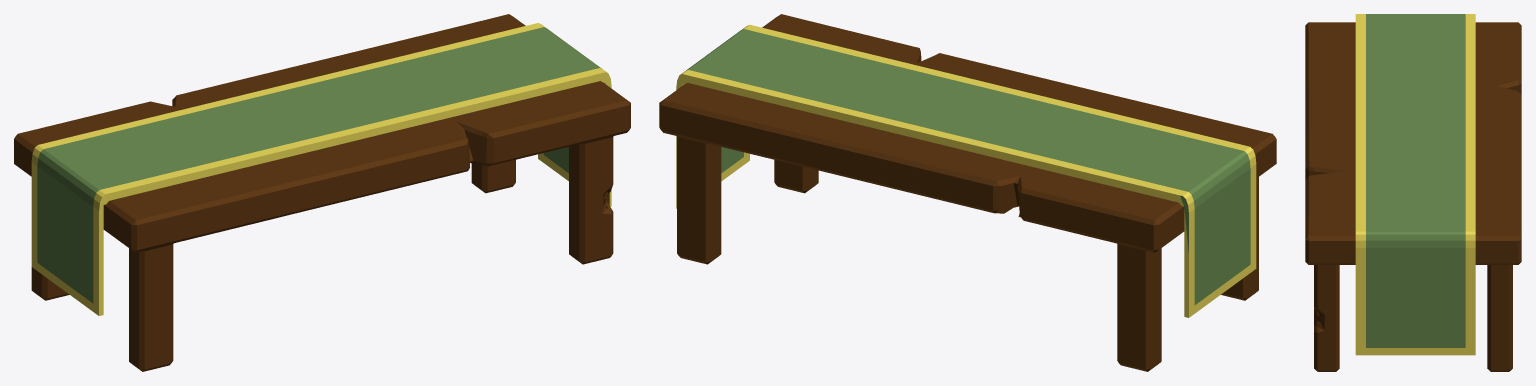
The model's file is Table2.fbx.
The picture shows the model from 3 angles, left to right: view 1: azimuth 30°, elevation 25°; view 2: azimuth 150°, elevation 25°; view 3: azimuth 270°, elevation 25°; orthographic projection. The views are drawn at different scales.
Parts seen in each view (by area): view 1: Cube.012; view 2: Cube.012; view 3: Cube.012.
Boxes of the visible parts, x1,y1,x2,y2 form: Cube.012: [14, 14, 630, 371]; Cube.012: [659, 14, 1276, 371]; Cube.012: [1305, 14, 1521, 371].
Size of the model in its own units: 575 by 178 by 236.
